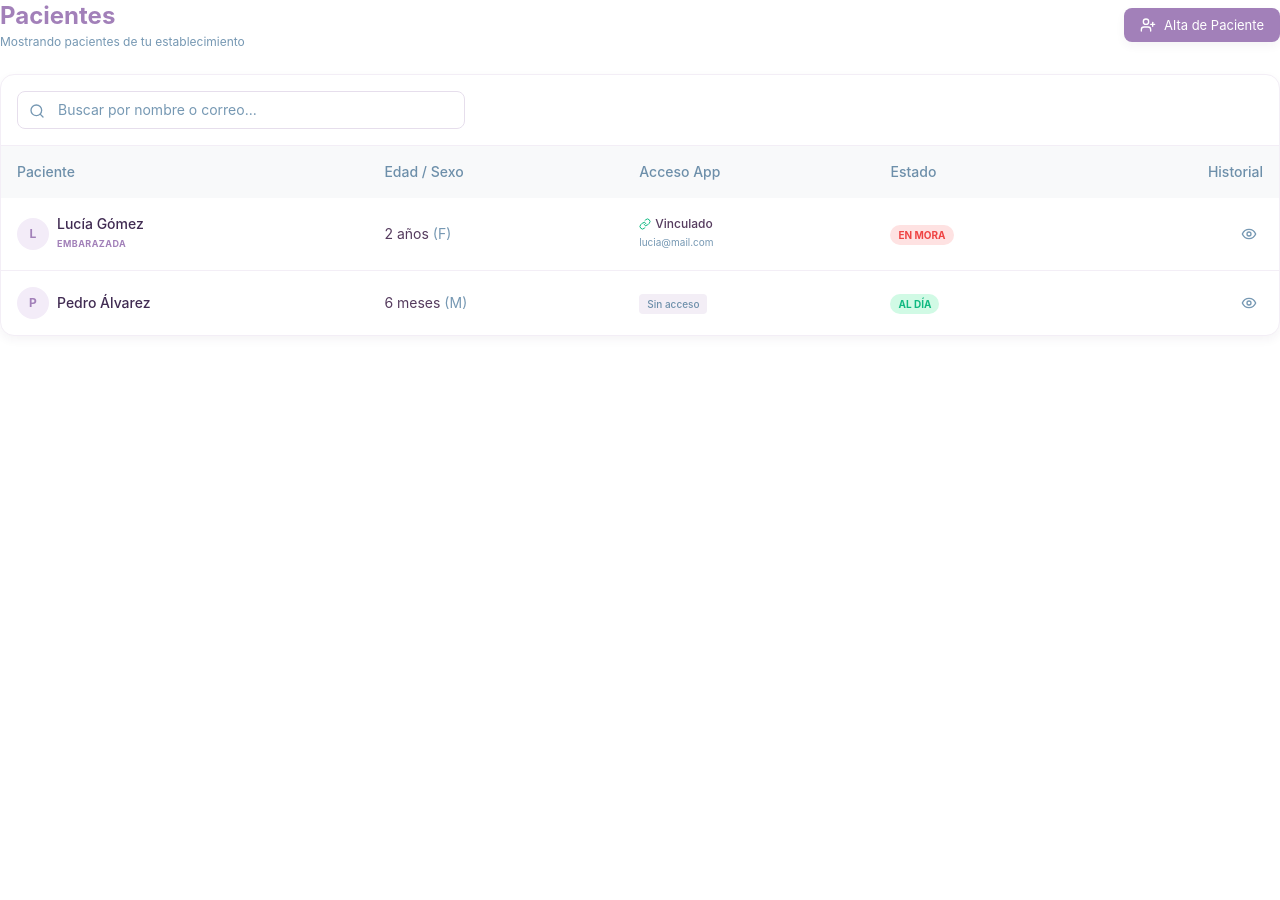
Scenario: PatientsView – historial de vacunación › se cierra al hacer clic en el fondo
Click the button titled "Ver historial" in the row of "Lucía Gómez": click(1249, 234) x1=1235 y1=220 x2=1263 y2=248
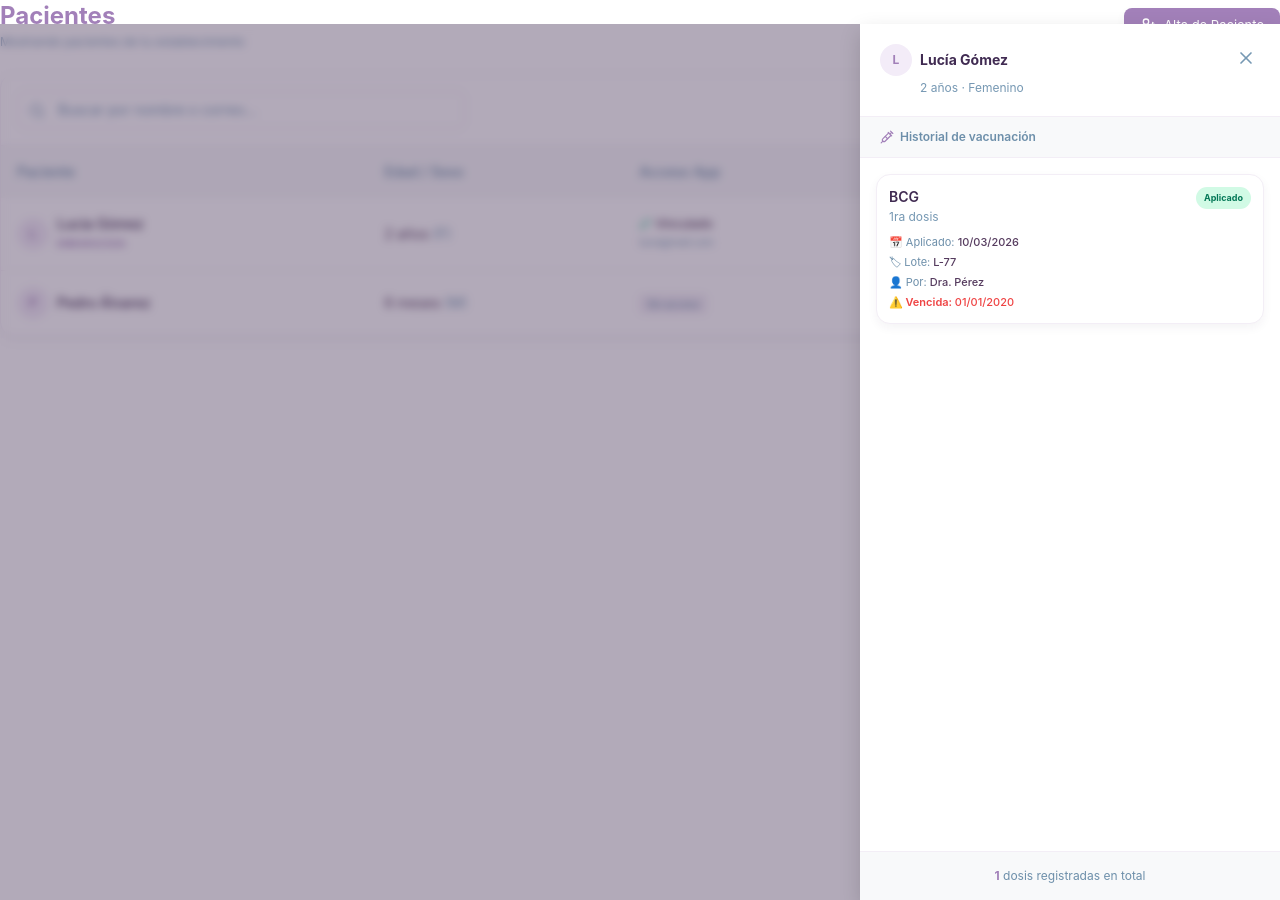
Expected: the text "Historial de vacunación" is shown, x1=880 y1=129 x2=1036 y2=144
Click the 1st element with class "inset-0": click(640, 462) x1=0 y1=24 x2=1279 y2=899
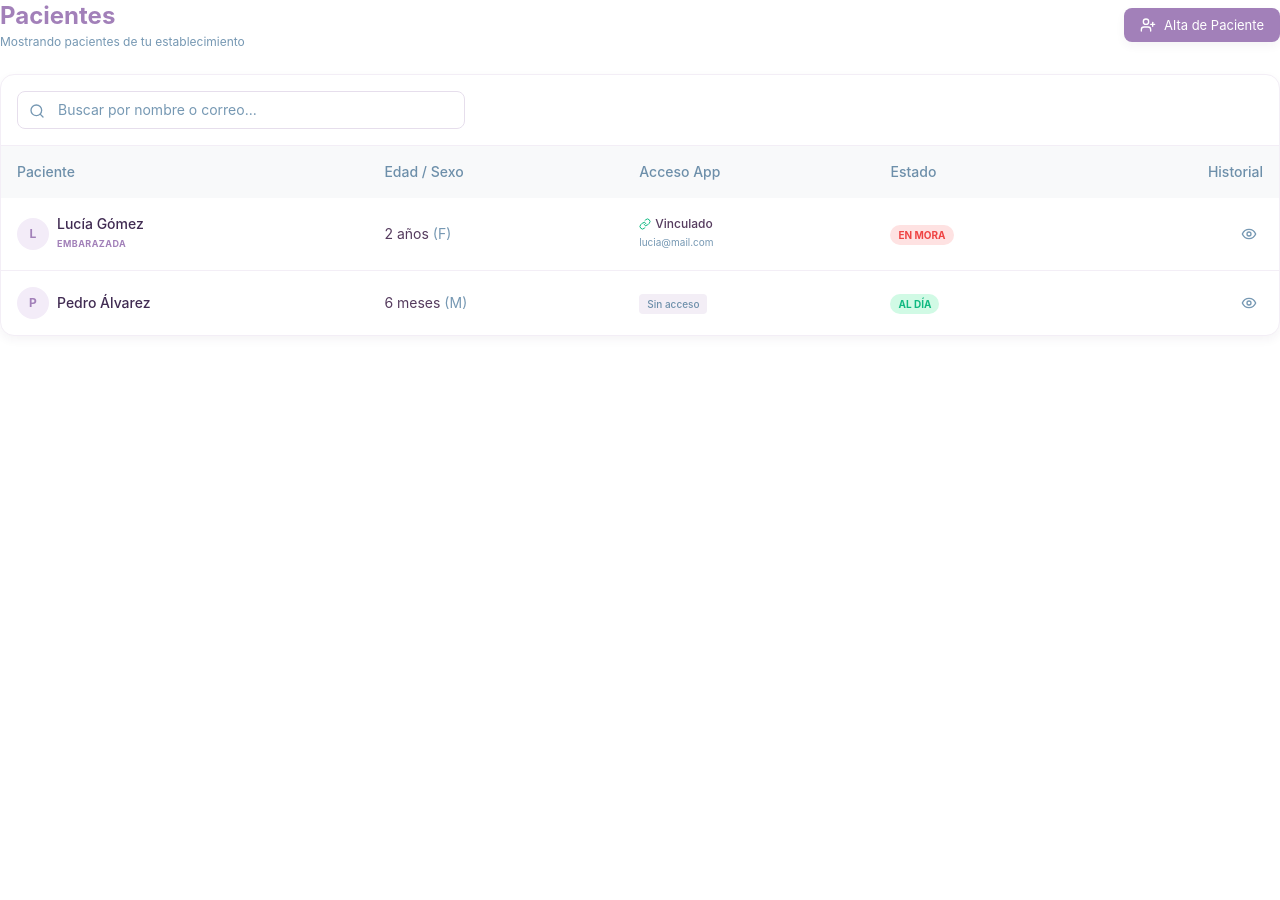
Expected: the text "Historial de vacunación" is gone
